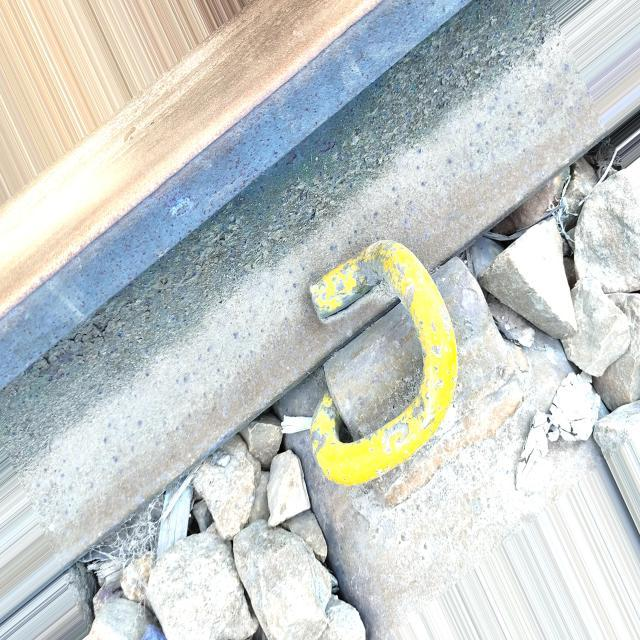Good Fasteners: (273, 198, 565, 582)
